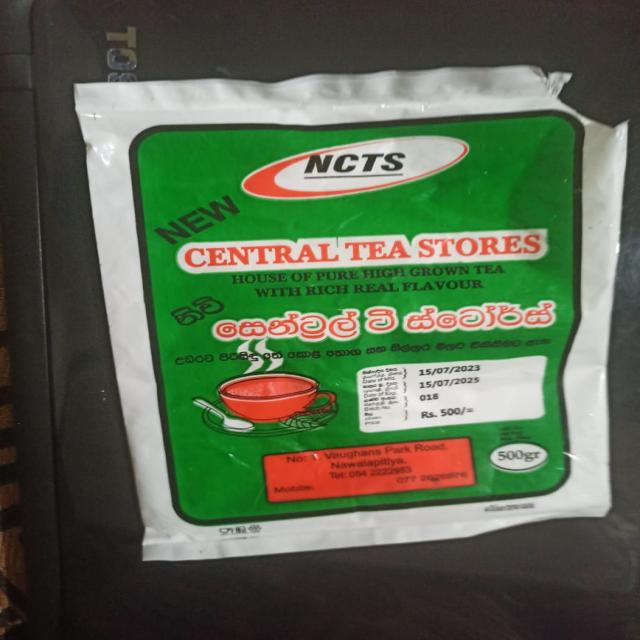Central Tea: (56, 68, 640, 530)
